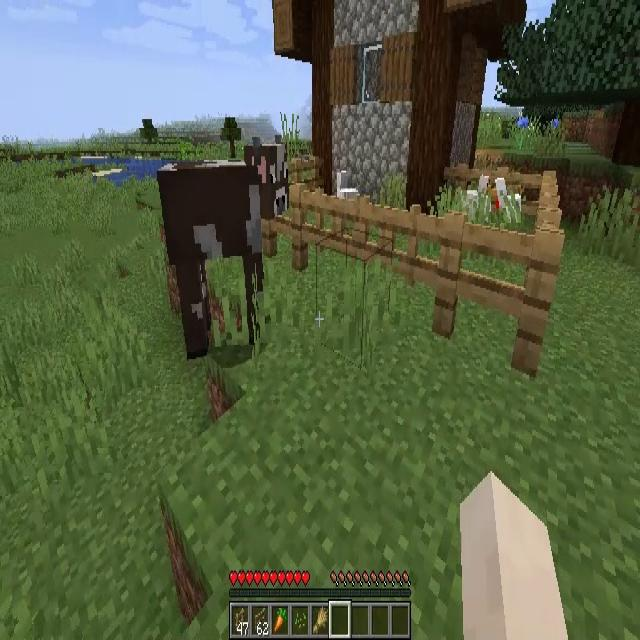cow: (158, 137, 290, 353)
duck: (491, 177, 521, 223), (468, 176, 492, 221)
